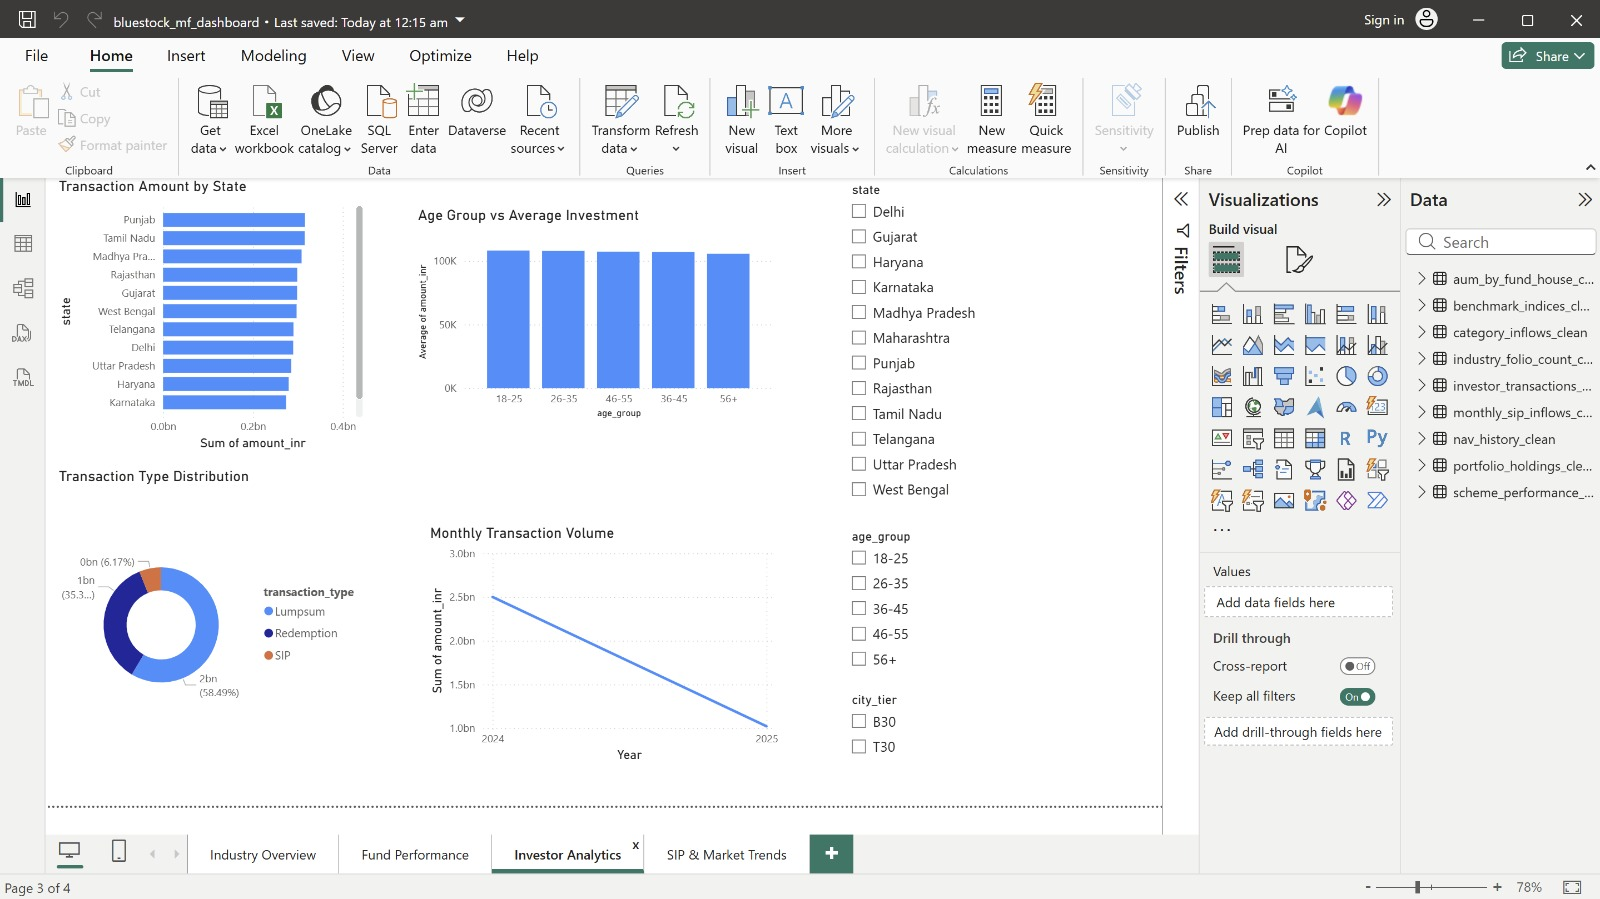

The dashboard page shown, as its layout file describes it:
{"tool":"powerbi","page":{"name":"Investor Analytics","canvas":[1280,720],"ordinal":2},"visuals":[{"type":"clusteredBarChart","title":"Transaction Amount by State","fields":{"Category":["investor_transactions_clean.state"],"Y":["Sum(investor_transactions_clean.amount_inr)"]},"box":[10,0,358.6,317.1],"z":0},{"type":"donutChart","title":"Transaction Type Distribution","fields":{"Category":["investor_transactions_clean.transaction_type"],"Y":["Sum(investor_transactions_clean.amount_inr)"]},"box":[10,332.9,358.6,341.4],"z":1},{"type":"clusteredColumnChart","title":"Age Group vs Average Investment","fields":{"Category":["investor_transactions_clean.age_group"],"Y":["Avg(investor_transactions_clean.amount_inr)"]},"box":[421.4,32.9,417.1,247.1],"z":2},{"type":"lineChart","title":"Monthly Transaction Volume","fields":{"Category":["investor_transactions_clean.transaction_date.Variation.Date Hierarchy.Year","investor_transactions_clean.transaction_date.Variation.Date Hierarchy.Quarter","investor_transactions_clean.transaction_date.Variation.Date Hierarchy.Month","investor_transactions_clean.transaction_date.Variation.Date Hierarchy.Day"],"Y":["Sum(investor_transactions_clean.amount_inr)"]},"box":[435.7,397.1,408.6,277.1],"z":3},{"type":"slicer","fields":{"Values":["investor_transactions_clean.state"]},"box":[911.4,0,280,377.1],"z":4},{"type":"slicer","fields":{"Values":["investor_transactions_clean.age_group"]},"box":[911.4,397.1,280,190],"z":5},{"type":"slicer","fields":{"Values":["investor_transactions_clean.city_tier"]},"box":[911.4,585.7,280,134.3],"z":6}]}

Visuals, with their boxes on the page's 1280x720 design canvas (x1, y1, x2, y2). These are canvas units, not pixel positions in the 1600x899 screenshot, which may show the page scaled, cropped or inside an application window:
"Transaction Amount by State" clusteredBarChart: bbox=[10, 0, 369, 317]
"Transaction Type Distribution" donutChart: bbox=[10, 333, 369, 674]
"Age Group vs Average Investment" clusteredColumnChart: bbox=[421, 33, 838, 280]
"Monthly Transaction Volume" lineChart: bbox=[436, 397, 844, 674]
slicer - investor_transactions_clean.state: bbox=[911, 0, 1191, 377]
slicer - investor_transactions_clean.age_group: bbox=[911, 397, 1191, 587]
slicer - investor_transactions_clean.city_tier: bbox=[911, 586, 1191, 720]
